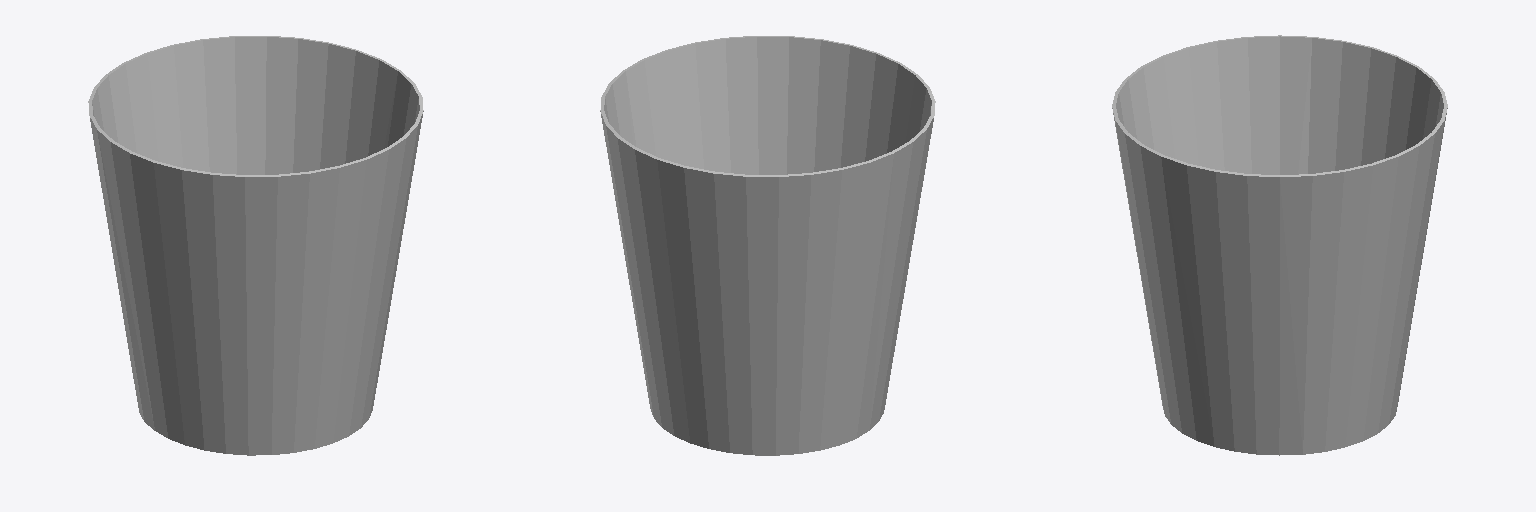
The model's file is prullenbak.obj.
The picture shows the model from 3 angles: view 1: azimuth 30°, elevation 25°; view 2: azimuth 150°, elevation 25°; view 3: azimuth 270°, elevation 25°; orthographic projection.
Parts seen in each view (by area): view 1: Cylinder_Cylinder.001; view 2: Cylinder_Cylinder.001; view 3: Cylinder_Cylinder.001.
Part boxes in pixels (left/top/right/bottom): Cylinder_Cylinder.001: left=88, top=36, right=423, bottom=455; Cylinder_Cylinder.001: left=600, top=36, right=935, bottom=455; Cylinder_Cylinder.001: left=1112, top=35, right=1447, bottom=455.
Size of the model in its own units: 2.05 by 2.02 by 2.05.